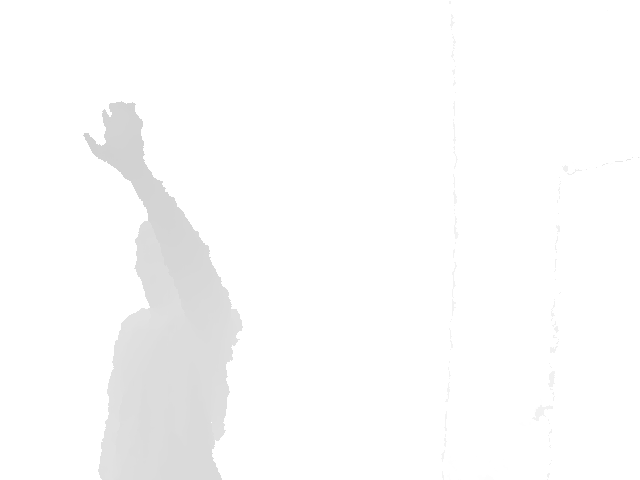hand: (81, 100, 147, 166)
head: (135, 220, 185, 309)
person: (82, 100, 244, 480)
